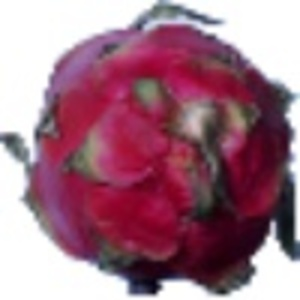pitaia: (1, 1, 300, 299)
